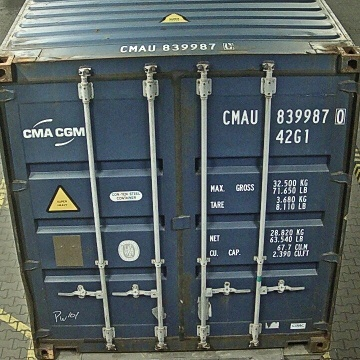serial_id: (223, 108, 346, 124)
